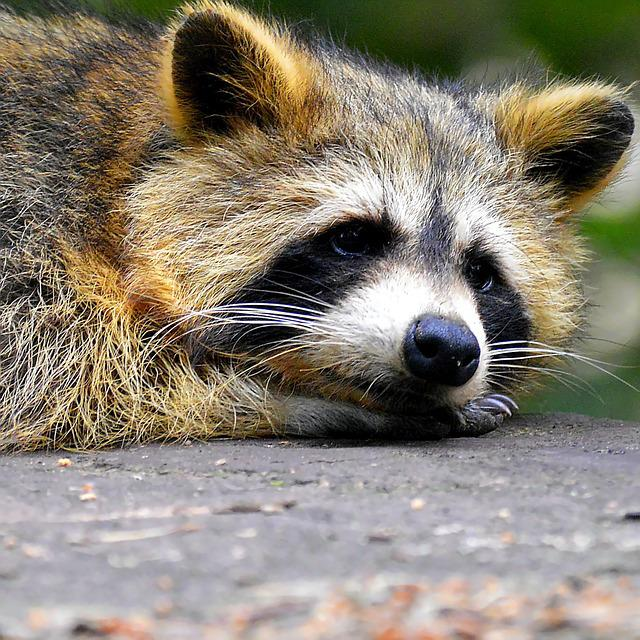raccoon: (0, 0, 639, 473)
